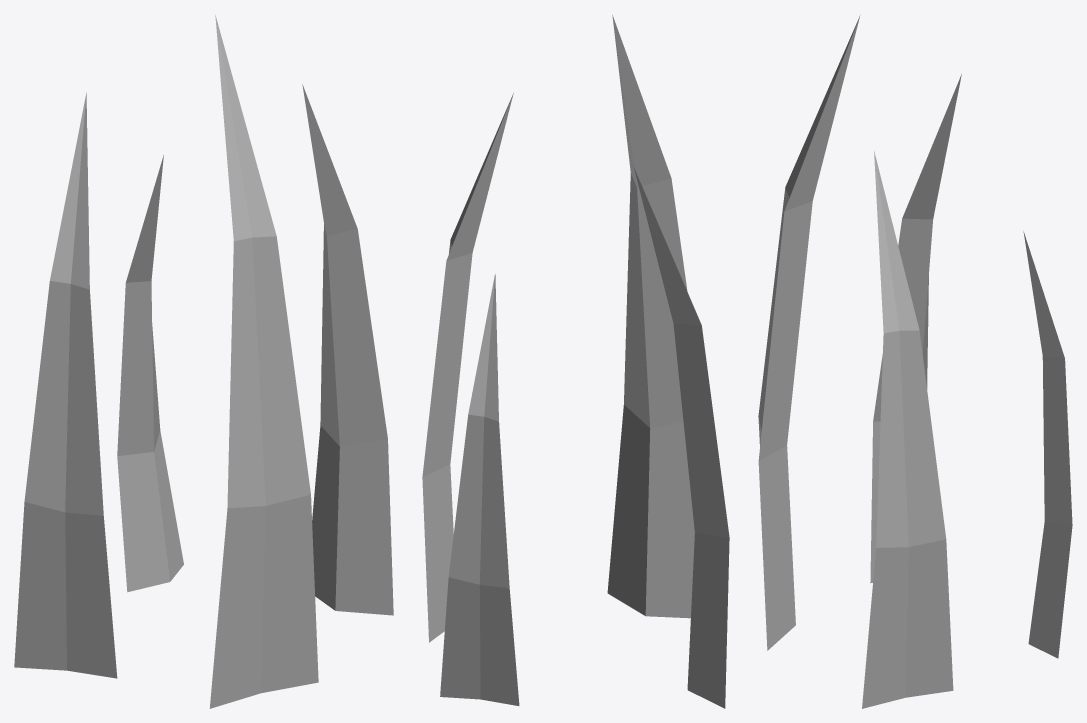
Rendered from Grass_05.fbx.
3 views of the same model, side by side, from view 1: azimuth 30°, elevation 25°; view 2: azimuth 150°, elevation 25°; view 3: azimuth 270°, elevation 25° (orthographic). The views are drawn at different scales.
Visible parts, largest first — view 1: Grass_05; view 2: Grass_05; view 3: Grass_05.
Boxes of the visible parts, box(x1,y1,x2,y2) form: Grass_05: box(14, 15, 393, 708); Grass_05: box(422, 15, 729, 708); Grass_05: box(758, 15, 1072, 708).
Size of the model in its own units: 0.1999 by 0.3637 by 0.1689.
